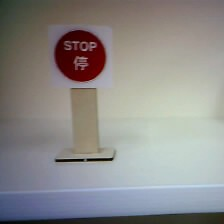stop: (42, 18, 116, 91)
